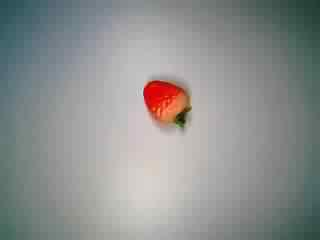strawberry: (131, 77, 199, 141)
